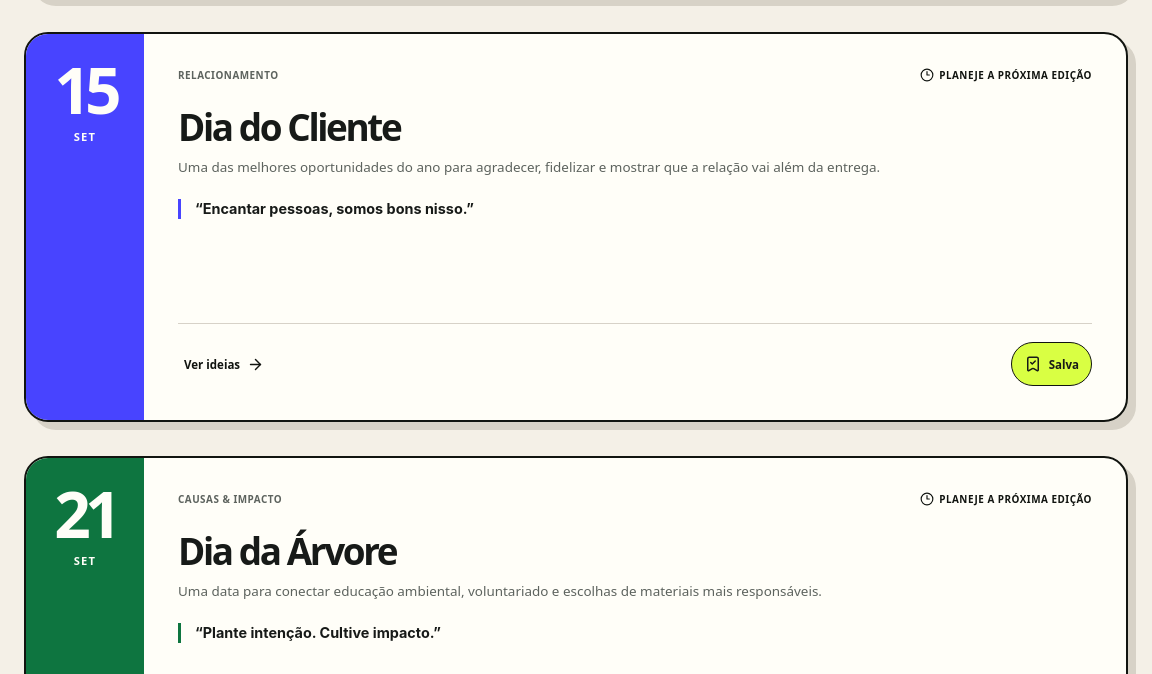
Test case: favoritos de datas comemorativas por titular › restaura a seleção e encerra o desfazer quando a remoção é rejeitada
(page scrolled)
Click the button with aria-label "Remover Dia do Cliente em Minhas datas". click: (1051, 364)
box: [1011,342,1092,386]
(page scrolled)
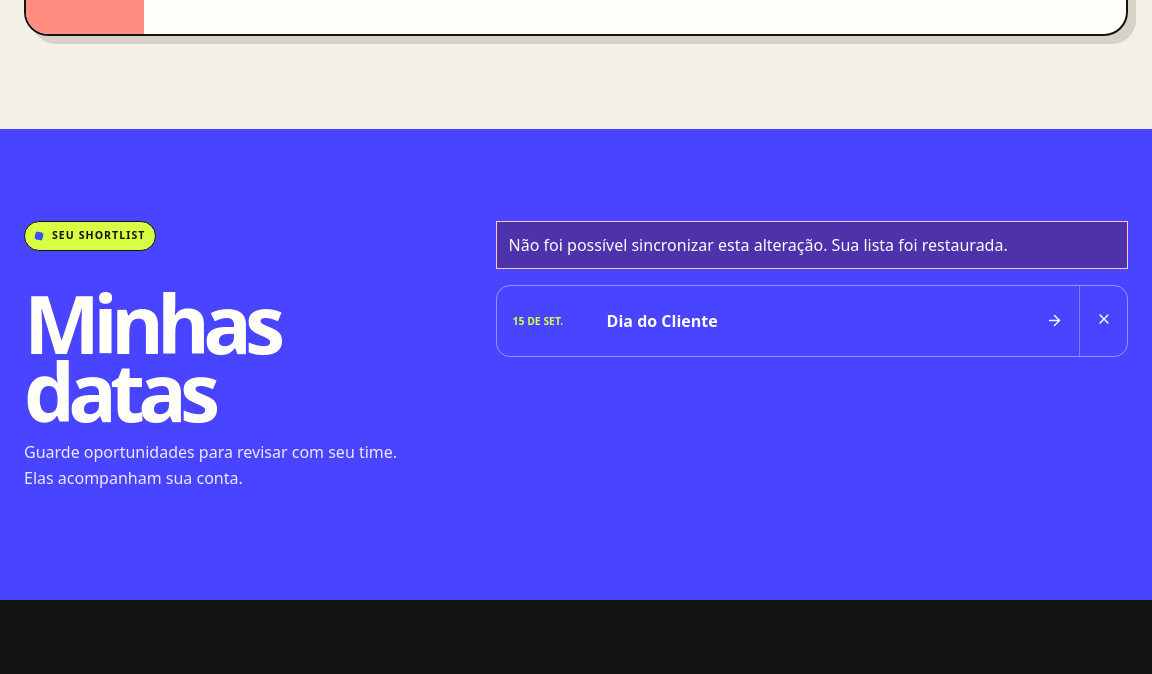
Check: the element with class "saved-dates" shows "Dia do Cliente", box [497,286,1079,356]
Check: the text "Não foi possível sincronizar esta alteração. Sua lista foi restaurada." is shown, box [496,221,1128,269]
